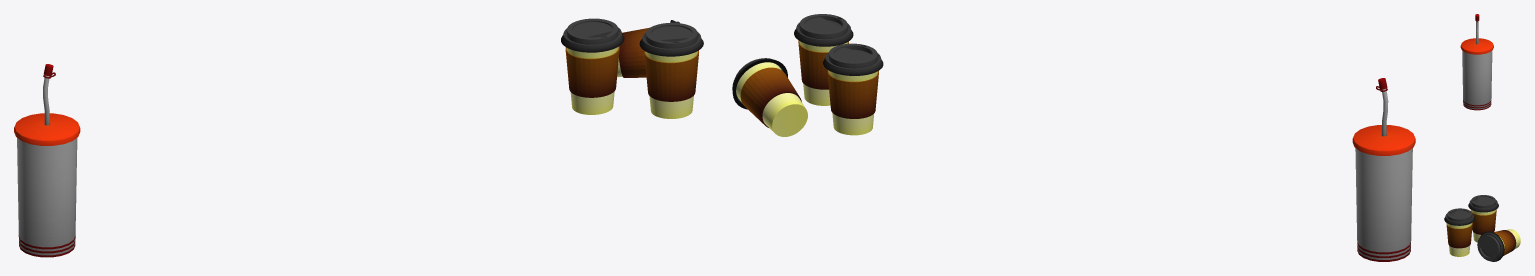
File: HomeSecctionDynamics.glb
The picture shows the model from 3 angles, left to right: view 1: azimuth 30°, elevation 25°; view 2: azimuth 150°, elevation 25°; view 3: azimuth 270°, elevation 25°; orthographic projection. The views are drawn at different scales.
Parts seen in each view (by area): view 1: CokeCup, coffee_2, Coffee_1, coffee_3; view 2: CokeCup, Coffee_1, coffee_3, coffee_2; view 3: CokeCup, coffee_2, coffee_3, Coffee_1.
Part boxes in pixels (left/top/right/bottom): CokeCup: left=14, top=64, right=80, bottom=257; coffee_2: left=639, top=22, right=703, bottom=118; Coffee_1: left=561, top=18, right=624, bottom=114; coffee_3: left=617, top=20, right=679, bottom=77; CokeCup: left=1352, top=78, right=1415, bottom=261; Coffee_1: left=823, top=43, right=883, bottom=135; coffee_3: left=732, top=58, right=807, bottom=136; coffee_2: left=794, top=14, right=853, bottom=105; CokeCup: left=1460, top=14, right=1493, bottom=110; coffee_2: left=1444, top=208, right=1474, bottom=256; coffee_3: left=1477, top=229, right=1520, bottom=261; Coffee_1: left=1468, top=195, right=1498, bottom=242.
Bounding box in the file's own units: 29.35 × 7.33 × 5.63.
1 material, 1 textured.
